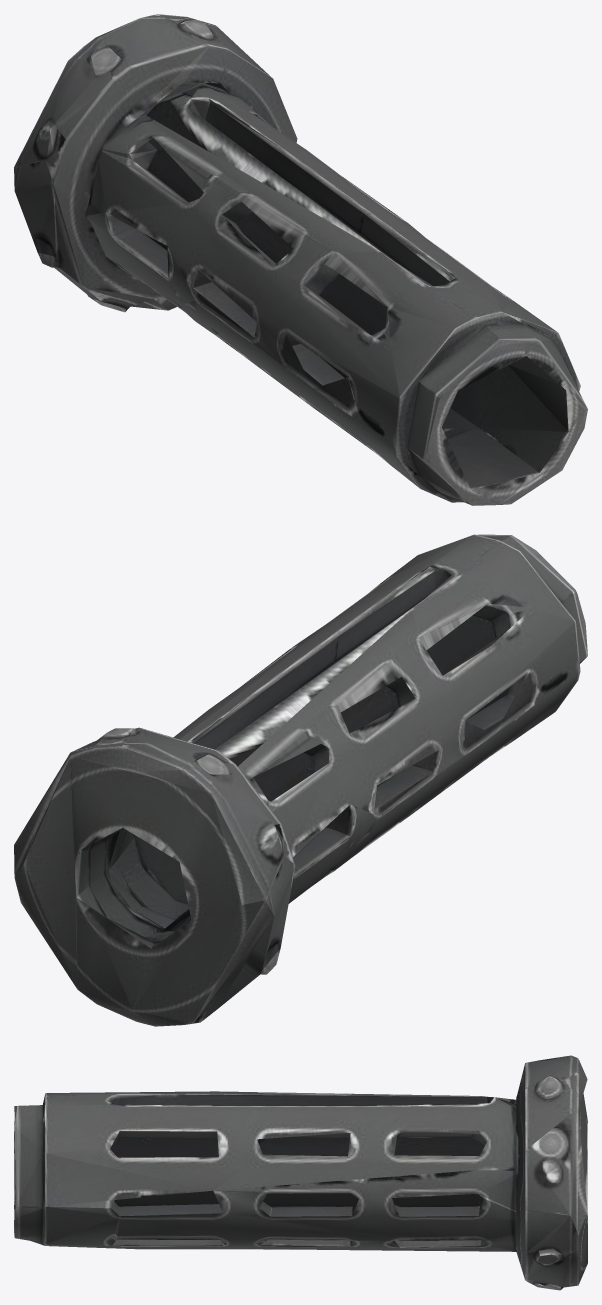
File: shared_flak_tower_large_option__barrel_lod1.glb
The picture shows the model from 3 angles, top to bottom: view 1: azimuth 30°, elevation 25°; view 2: azimuth 150°, elevation 25°; view 3: azimuth 270°, elevation 25°; orthographic projection. The views are drawn at different scales.
Parts seen in each view (by area): view 1: mesh_node; view 2: mesh_node; view 3: mesh_node.
Boxes of the visible parts, bbox=[...] form: mesh_node: bbox=[14, 14, 587, 505]; mesh_node: bbox=[14, 534, 587, 1026]; mesh_node: bbox=[14, 1055, 587, 1290].
Bounding box in the file's own units: 1 × 1.03 × 2.5.
Materials: 1 (1 with a texture image).
